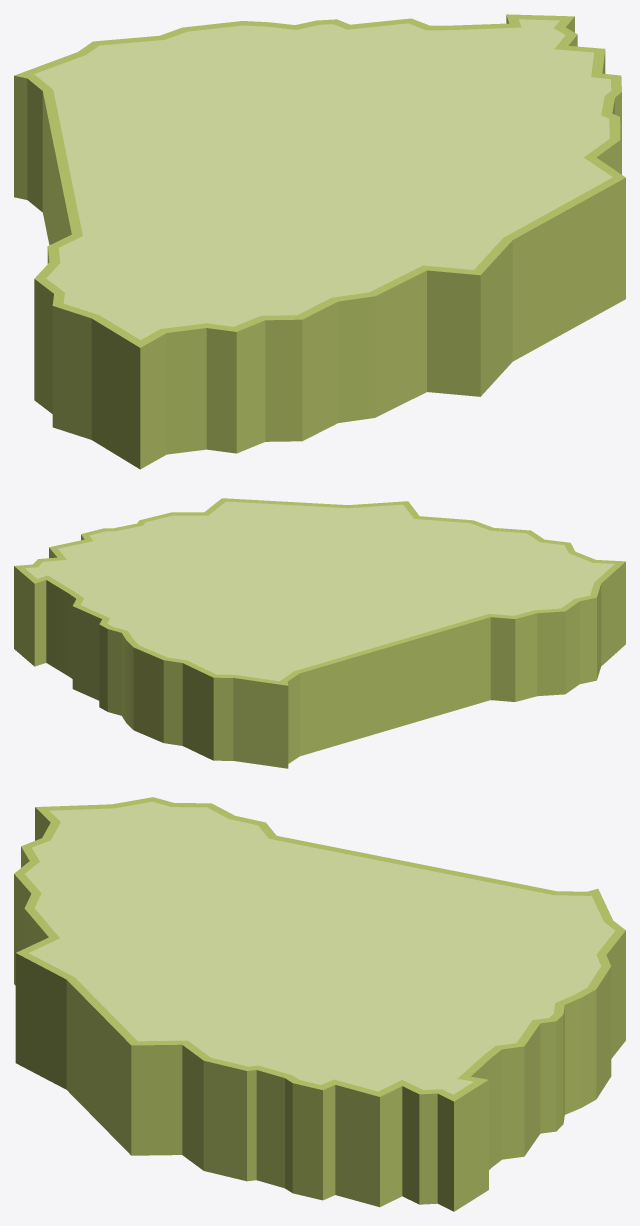
The model's file is Islands5.005.fbx.
3 renders of one model, top to bottom at view 1: azimuth 30°, elevation 25°; view 2: azimuth 150°, elevation 25°; view 3: azimuth 270°, elevation 25°, orthographic. The views are drawn at different scales.
Parts seen in each view (by area): view 1: Island5.005; view 2: Island5.005; view 3: Island5.005.
Part boxes in pixels (x1,y1,x2,y2): Island5.005: (14, 14, 625, 469); Island5.005: (14, 498, 625, 768); Island5.005: (14, 797, 625, 1211).
Bounding box in the file's own units: 148 × 25 × 126.
